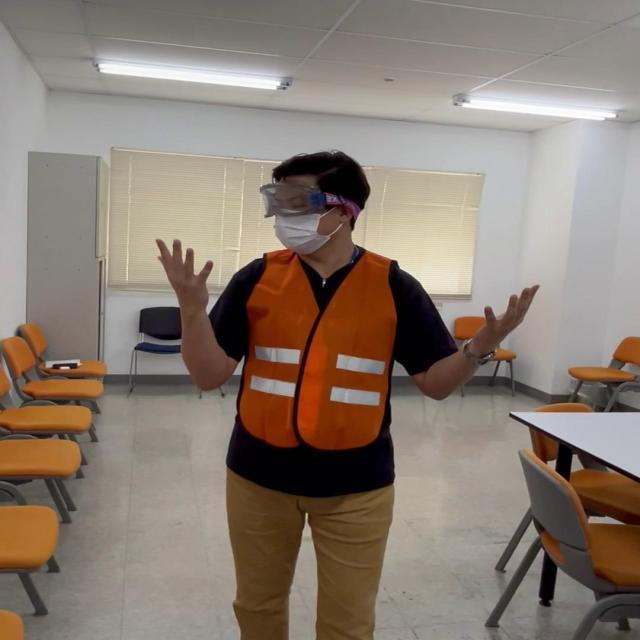bare_hand: (151, 232, 220, 314), (480, 278, 540, 348)
